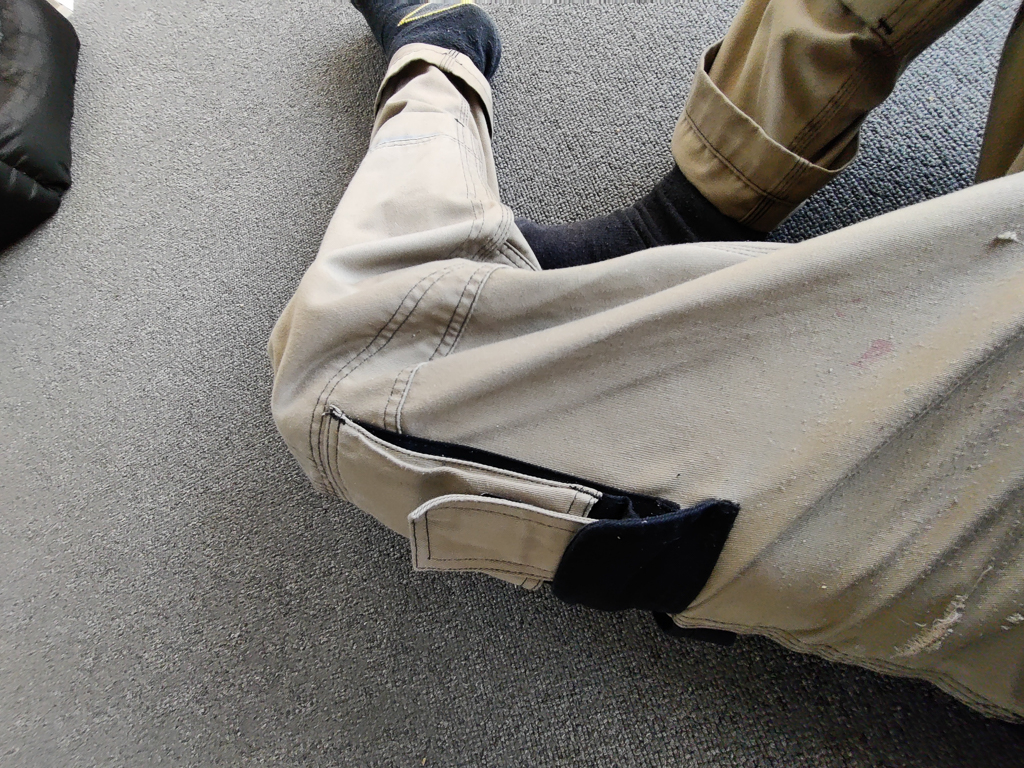Humanoid: (246, 0, 1024, 739)
